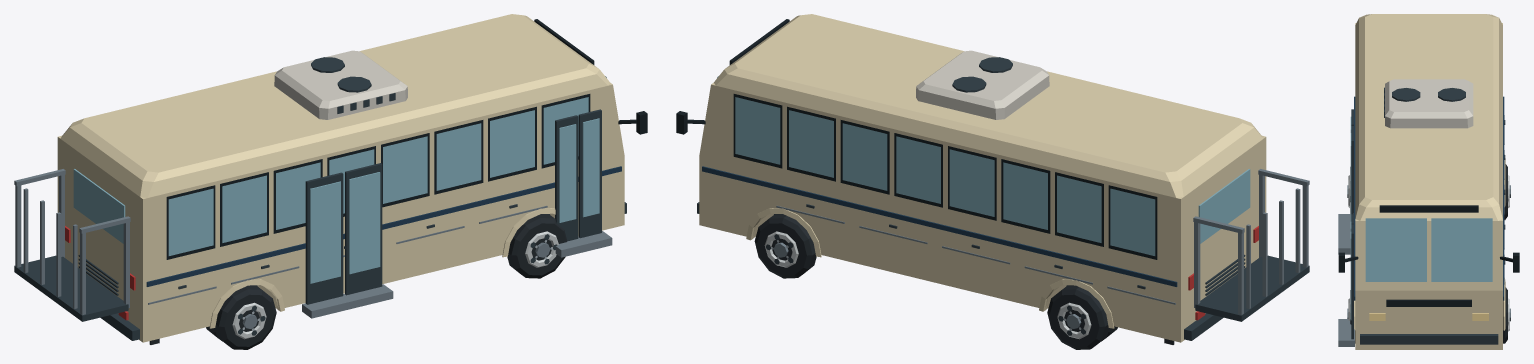
Rendered from b15_airport_shuttle_bus.glb.
3 renders of one model, left to right at view 1: azimuth 30°, elevation 25°; view 2: azimuth 150°, elevation 25°; view 3: azimuth 270°, elevation 25°, orthographic. The views are drawn at different scales.
Visible parts, largest first — view 1: b15_airport_shuttle_bus; view 2: b15_airport_shuttle_bus; view 3: b15_airport_shuttle_bus.
Part boxes in pixels (<box>): b15_airport_shuttle_bus: <box>14,14,647,349</box>; b15_airport_shuttle_bus: <box>676,14,1309,349</box>; b15_airport_shuttle_bus: <box>1338,14,1519,349</box>.
Bounding box in the file's own units: 9.26 × 3.4 × 3.08.
